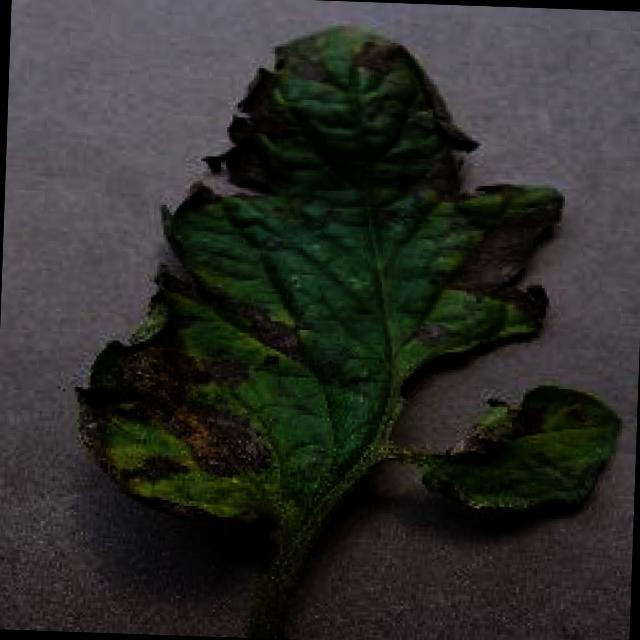Tomato Early blight leaf: (79, 17, 636, 546)
